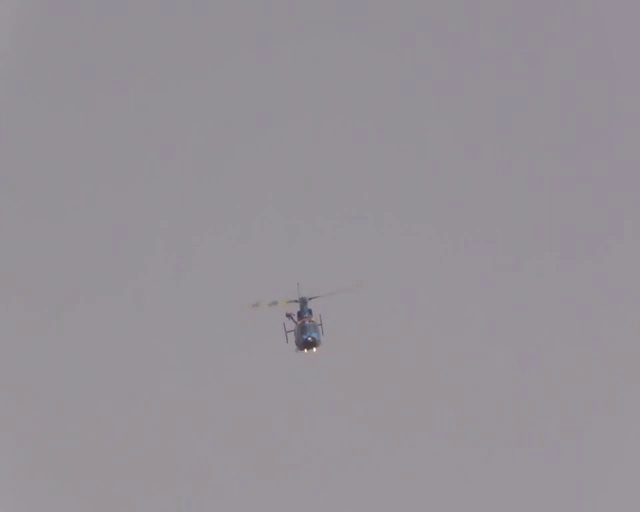HELICOPTER: (251, 280, 354, 353)
